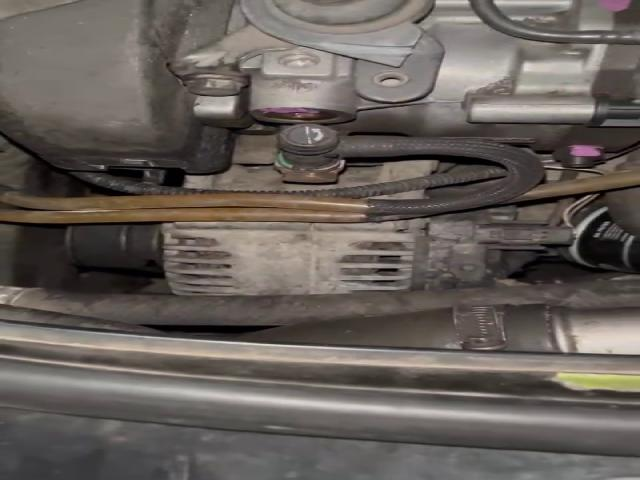alternator: (159, 207, 573, 295)
high_pressure_pump: (177, 1, 638, 166)
